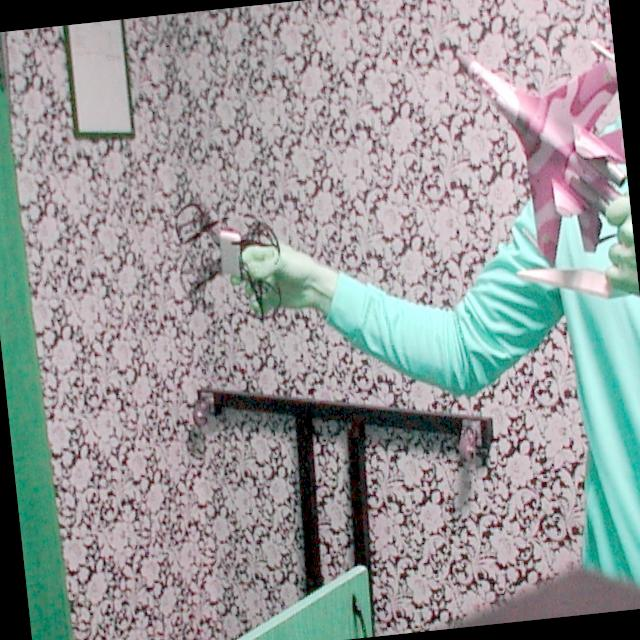drone: (164, 183, 302, 344)
